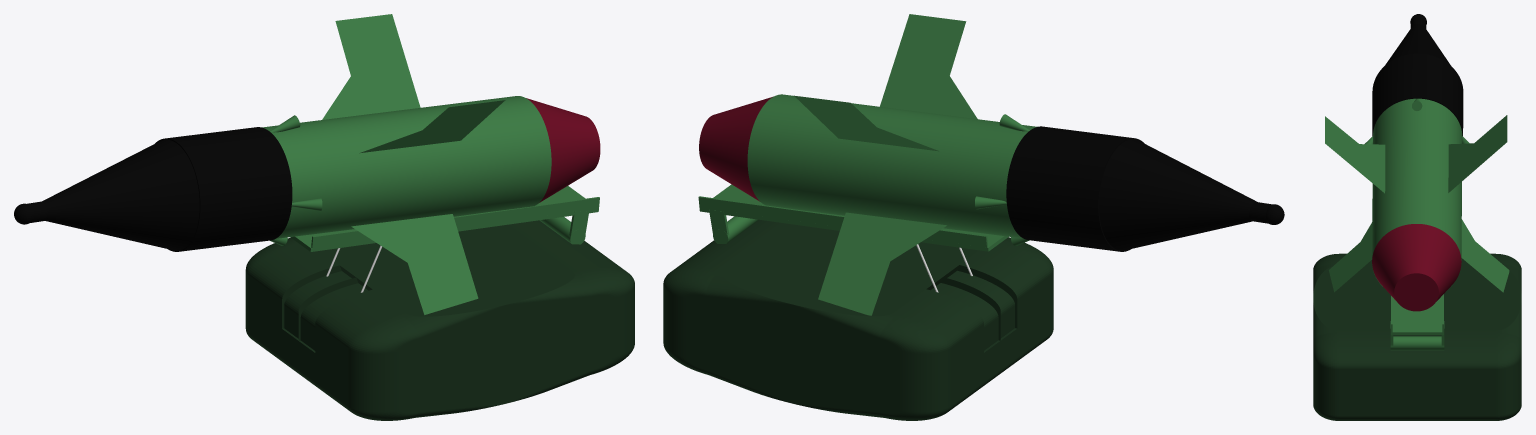
3 renders of one model, left to right at view 1: azimuth 30°, elevation 25°; view 2: azimuth 150°, elevation 25°; view 3: azimuth 270°, elevation 25°, orthographic. The views are drawn at different scales.
Visible parts, largest first — view 1: 柱体.004, Cube.005, Cube.003, 锥体, 柱体.003, Cube.002, Cube.004, 平面.001, 平面.004, Cube.008, 锥体.005, 平面.002 (+5 smaller); view 2: 柱体.004, Cube.004, Cube.006, 锥体, 柱体.003, Cube.007, Cube.005, 平面.003, 平面.002, Cube.001, 锥体.005, 平面.001 (+5 smaller); view 3: 柱体.004, Cube.003, Cube.006, 锥体.005, 柱体.003, Cube.001, Cube.008, 平面.002, Cube.005, 平面.001, Cube.004, 立方体.002 (+4 smaller).
Boxes of the visible parts, bbox=[...] form: 柱体.004: bbox=[262, 96, 551, 238]; Cube.005: bbox=[299, 265, 505, 382]; Cube.003: bbox=[464, 232, 634, 354]; 锥体: bbox=[42, 139, 199, 250]; 柱体.003: bbox=[155, 127, 292, 251]; Cube.002: bbox=[298, 341, 505, 420]; Cube.004: bbox=[245, 237, 407, 340]; 平面.001: bbox=[322, 14, 420, 119]; 平面.004: bbox=[351, 214, 478, 314]; Cube.008: bbox=[506, 315, 634, 403]; 锥体.005: bbox=[526, 98, 600, 202]; 平面.002: bbox=[359, 100, 505, 153]; 柱体.004: bbox=[747, 94, 1037, 238]; Cube.004: bbox=[793, 264, 1000, 382]; Cube.006: bbox=[663, 231, 833, 353]; 锥体: bbox=[1099, 139, 1256, 250]; 柱体.003: bbox=[1006, 126, 1144, 251]; Cube.007: bbox=[793, 341, 1000, 420]; Cube.005: bbox=[889, 237, 1053, 340]; 平面.003: bbox=[818, 212, 946, 315]; 平面.002: bbox=[880, 14, 977, 119]; Cube.001: bbox=[663, 314, 792, 403]; 锥体.005: bbox=[699, 96, 773, 201]; 平面.001: bbox=[794, 95, 938, 151]; 柱体.004: bbox=[1372, 98, 1462, 286]; Cube.003: bbox=[1313, 298, 1417, 392]; Cube.006: bbox=[1417, 298, 1521, 392]; 锥体.005: bbox=[1372, 224, 1461, 311]; 柱体.003: bbox=[1372, 53, 1463, 135]; Cube.001: bbox=[1417, 381, 1521, 420]; Cube.008: bbox=[1313, 381, 1417, 420]; 平面.002: bbox=[1325, 116, 1385, 193]; Cube.005: bbox=[1313, 253, 1390, 297]; 平面.001: bbox=[1448, 115, 1507, 192]; Cube.004: bbox=[1444, 253, 1521, 297]; 立方体.002: bbox=[1391, 296, 1443, 334].
Size of the model in its own units: 6.05 by 3.09 by 2.4.
